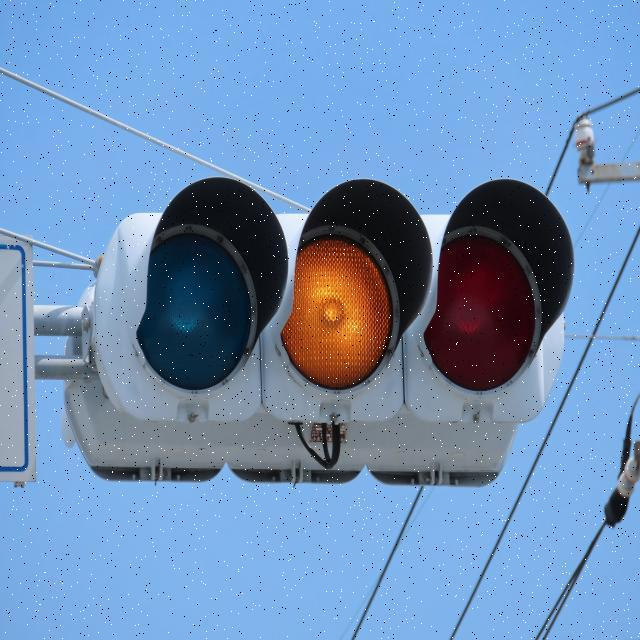yellow_light: (288, 184, 414, 408)
